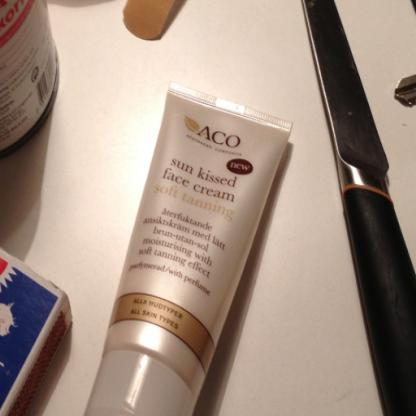knife: (287, 0, 415, 415)
